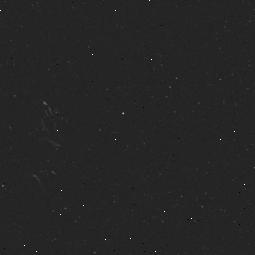smart_1: (0, 88, 73, 167)
